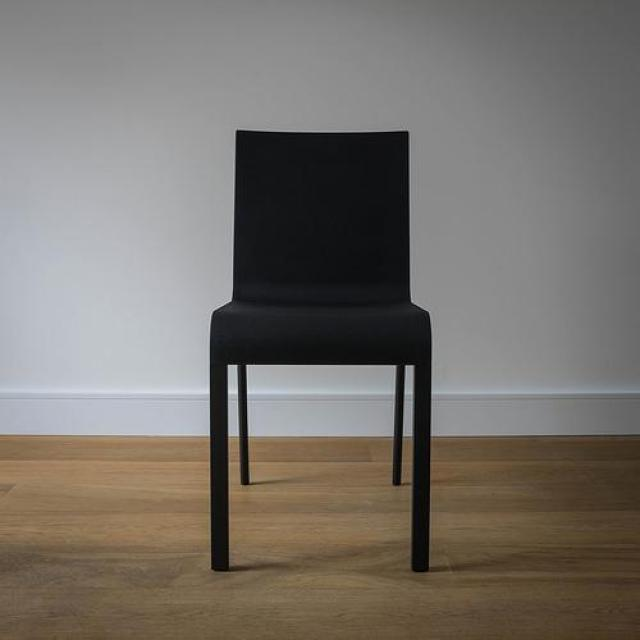chair: (209, 133, 433, 575)
